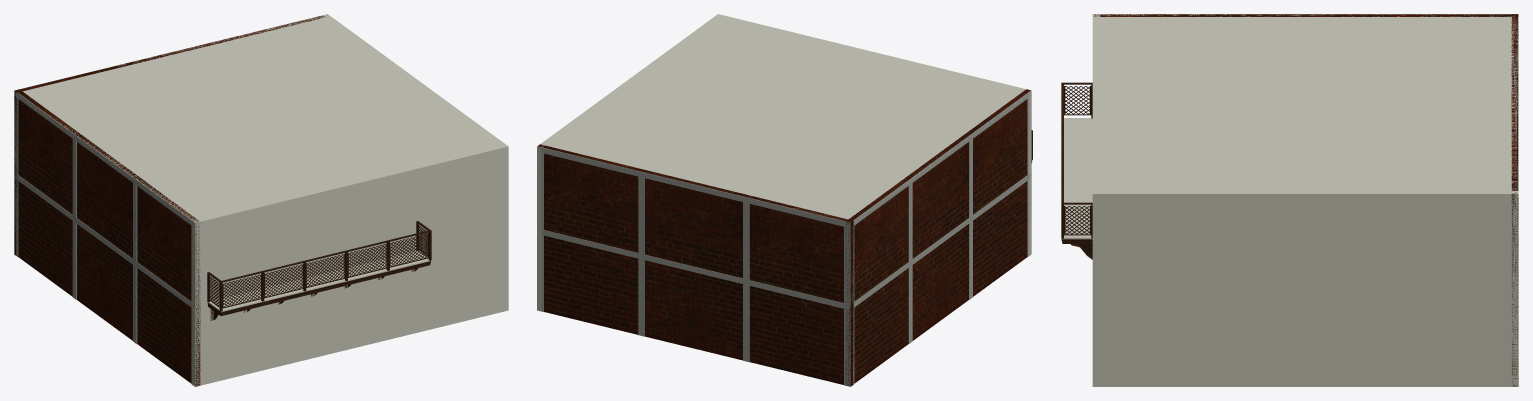
Rendered from building.glb.
3 views of the same model, side by side, from view 1: azimuth 30°, elevation 25°; view 2: azimuth 150°, elevation 25°; view 3: azimuth 270°, elevation 25° (orthographic). The views are drawn at different scales.
Parts seen in each view (by area): view 1: roof/house:0/roof_slab#0001, house:0/edge0/z0/house:0/edge0/z0/wall_0_0, house:0/edge3/z0/house:0/edge3/z0/wall_0_0, balcony/sample/balcony_platform#0001, house:0/edge2/z0/house:0/edge2/z0/wall_0_0, house:0/edge3/z0/house:0/edge3/z0/beam_0_0, house:0/edge3/z0/house:0/edge3/z0/beam_1_0, house:0/edge1/z0/house:0/edge1/z0/wall_0_0, balcony/sample/balcony_fascia#0001, balcony/sample/balcony_handrail#0001; view 2: roof/house:0/roof_slab#0001, house:0/edge2/z0/house:0/edge2/z0/wall_0_0, house:0/edge3/z0/house:0/edge3/z0/wall_0_0, house:0/edge1/z0/house:0/edge1/z0/wall_0_0, house:0/edge2/z0/house:0/edge2/z0/beam_1_0, house:0/edge2/z0/house:0/edge2/z0/beam_0_0, house:0/edge0/z0/house:0/edge0/z0/wall_0_0, house:0/edge3/z0/house:0/edge3/z0/beam_0_0, house:0/edge3/z0/house:0/edge3/z0/beam_1_0, house:0/edge2/z0/house:0/edge2/z0/column_2_0, house:0/edge2/z0/house:0/edge2/z0/column_2_1, house:0/edge2/z0/house:0/edge2/z0/column_3_0 (+3 smaller); view 3: house:0/edge1/z0/house:0/edge1/z0/wall_0_0, roof/house:0/roof_slab#0001, balcony/sample/balcony_platform#0001, house:0/edge0/z0/house:0/edge0/z0/wall_0_0, house:0/edge2/z0/house:0/edge2/z0/wall_0_0, house:0/edge3/z0/house:0/edge3/z0/wall_0_0, balcony/sample/balcony_handrail#0001.
Part boxes in pixels (x1,y1,x2,y2): roof/house:0/roof_slab#0001: (15,14,506,225); house:0/edge0/z0/house:0/edge0/z0/wall_0_0: (192,144,508,386); house:0/edge3/z0/house:0/edge3/z0/wall_0_0: (17,89,200,386); balcony/sample/balcony_platform#0001: (208,251,429,312); house:0/edge2/z0/house:0/edge2/z0/wall_0_0: (14,15,327,255); house:0/edge3/z0/house:0/edge3/z0/beam_0_0: (14,173,195,309); house:0/edge3/z0/house:0/edge3/z0/beam_1_0: (14,92,195,227); house:0/edge1/z0/house:0/edge1/z0/wall_0_0: (323,14,508,311); balcony/sample/balcony_fascia#0001: (207,261,430,315); balcony/sample/balcony_handrail#0001: (207,221,431,282); roof/house:0/roof_slab#0001: (540,14,1031,223); house:0/edge2/z0/house:0/edge2/z0/wall_0_0: (538,144,853,386); house:0/edge3/z0/house:0/edge3/z0/wall_0_0: (845,89,1030,385); house:0/edge1/z0/house:0/edge1/z0/wall_0_0: (537,15,722,311); house:0/edge2/z0/house:0/edge2/z0/beam_1_0: (538,147,850,228); house:0/edge2/z0/house:0/edge2/z0/beam_0_0: (542,230,850,309); house:0/edge0/z0/house:0/edge0/z0/wall_0_0: (717,14,1031,256); house:0/edge3/z0/house:0/edge3/z0/beam_0_0: (850,172,1031,309); house:0/edge3/z0/house:0/edge3/z0/beam_1_0: (850,90,1031,227); house:0/edge2/z0/house:0/edge2/z0/column_2_0: (638,176,644,254); house:0/edge2/z0/house:0/edge2/z0/column_2_1: (638,258,644,336); house:0/edge2/z0/house:0/edge2/z0/column_3_0: (743,202,749,280); house:0/edge1/z0/house:0/edge1/z0/wall_0_0: (1092,191,1518,386); roof/house:0/roof_slab#0001: (1092,14,1518,198); balcony/sample/balcony_platform#0001: (1063,118,1092,239); house:0/edge0/z0/house:0/edge0/z0/wall_0_0: (1092,14,1099,386); house:0/edge2/z0/house:0/edge2/z0/wall_0_0: (1511,14,1518,386); house:0/edge3/z0/house:0/edge3/z0/wall_0_0: (1093,14,1517,16); balcony/sample/balcony_handrail#0001: (1061,82,1092,204).
Size of the model in its own units: 12 by 6 by 12.89.
4 materials, 2 textured.
